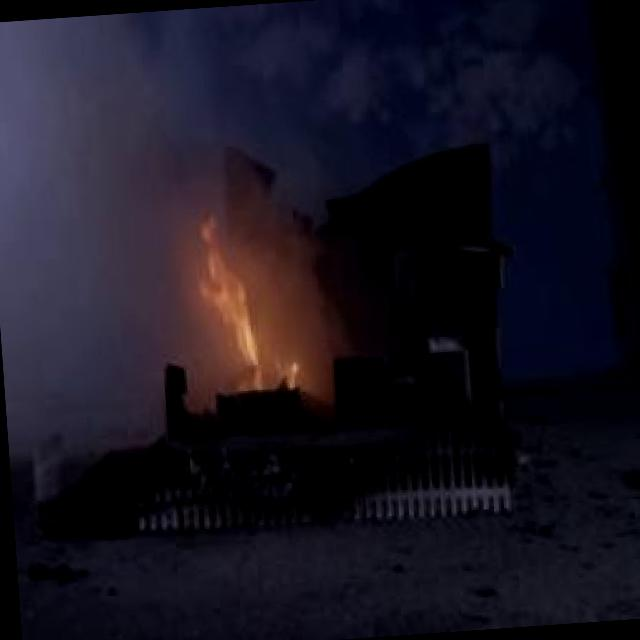fire: (164, 192, 314, 424)
smoke: (0, 5, 249, 264)
